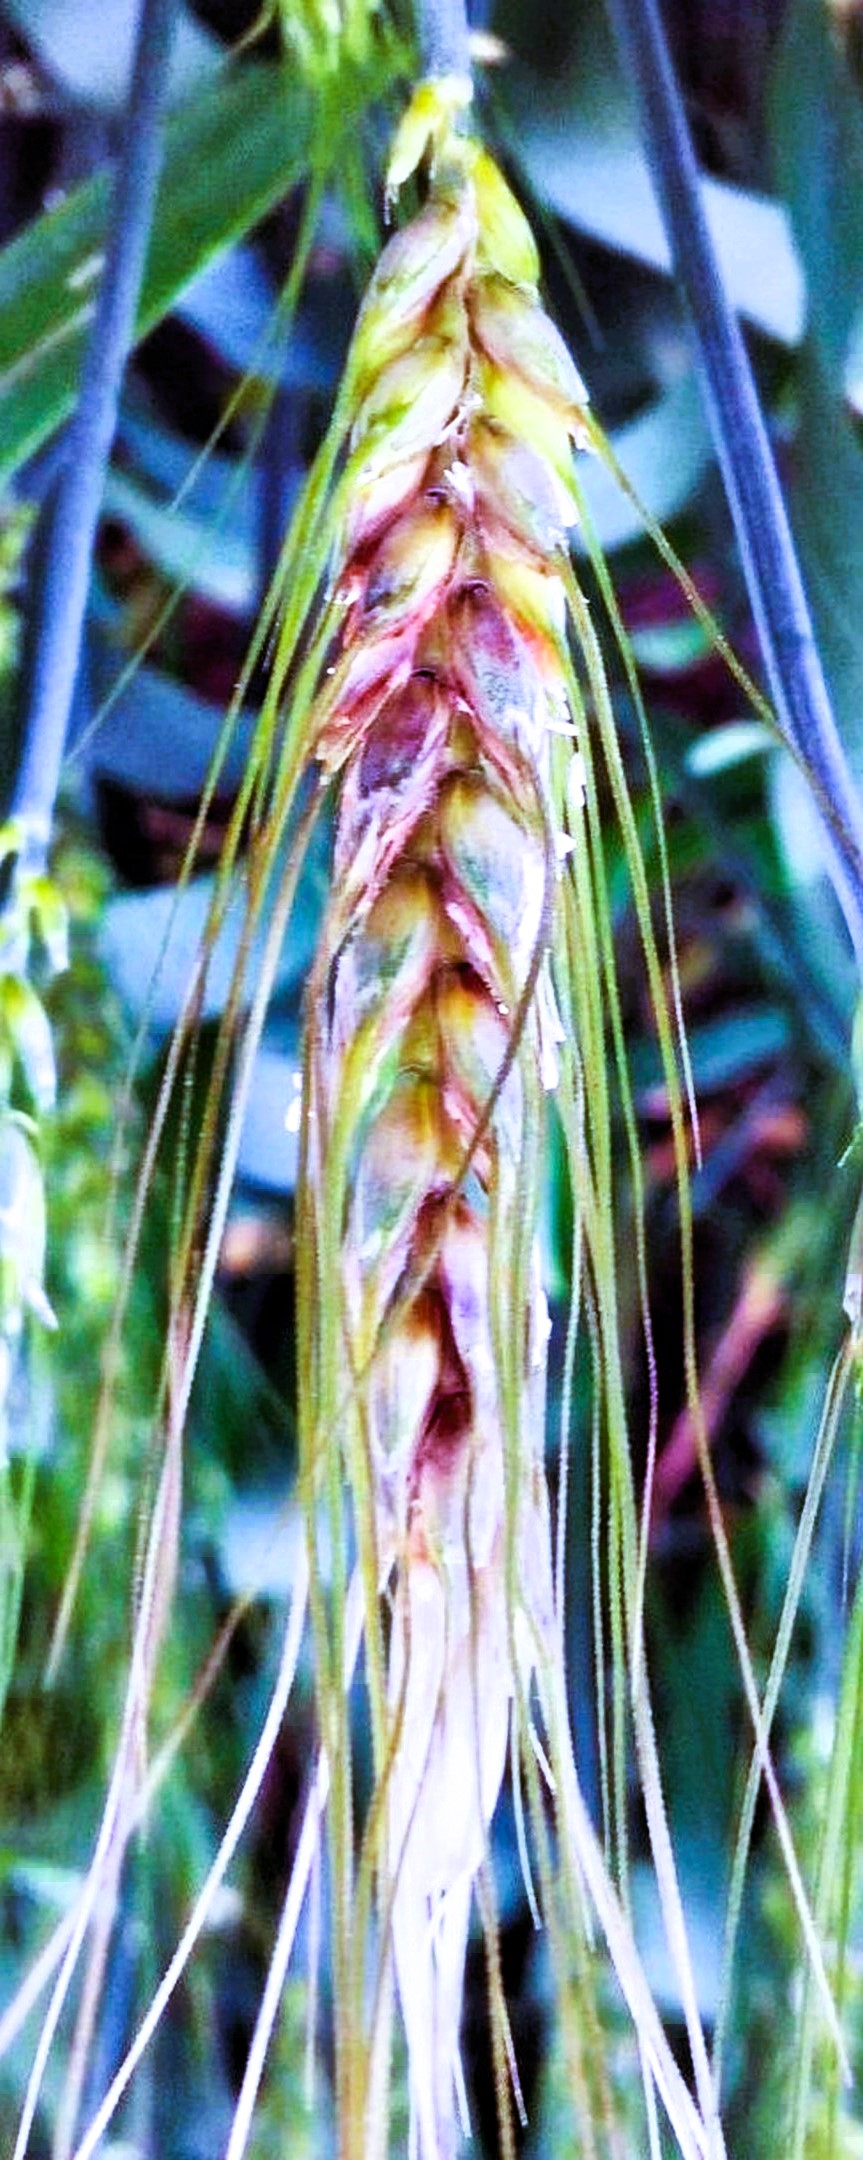Wheat scab: (236, 149, 647, 1659)
